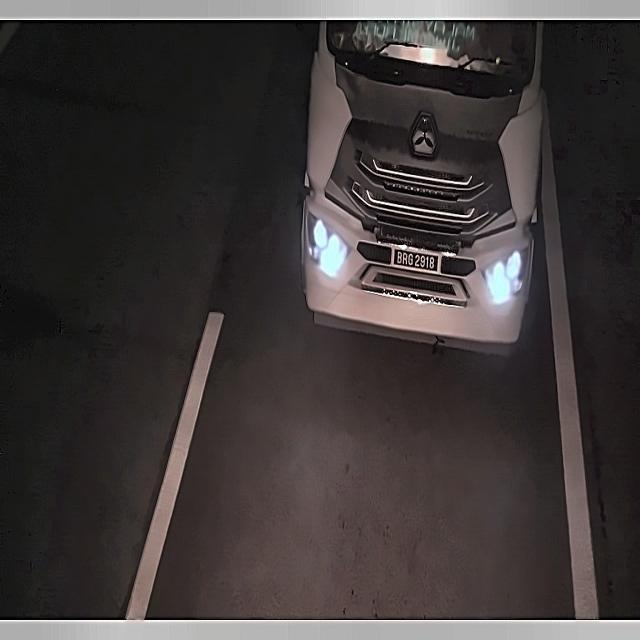car: (389, 242, 452, 280)
